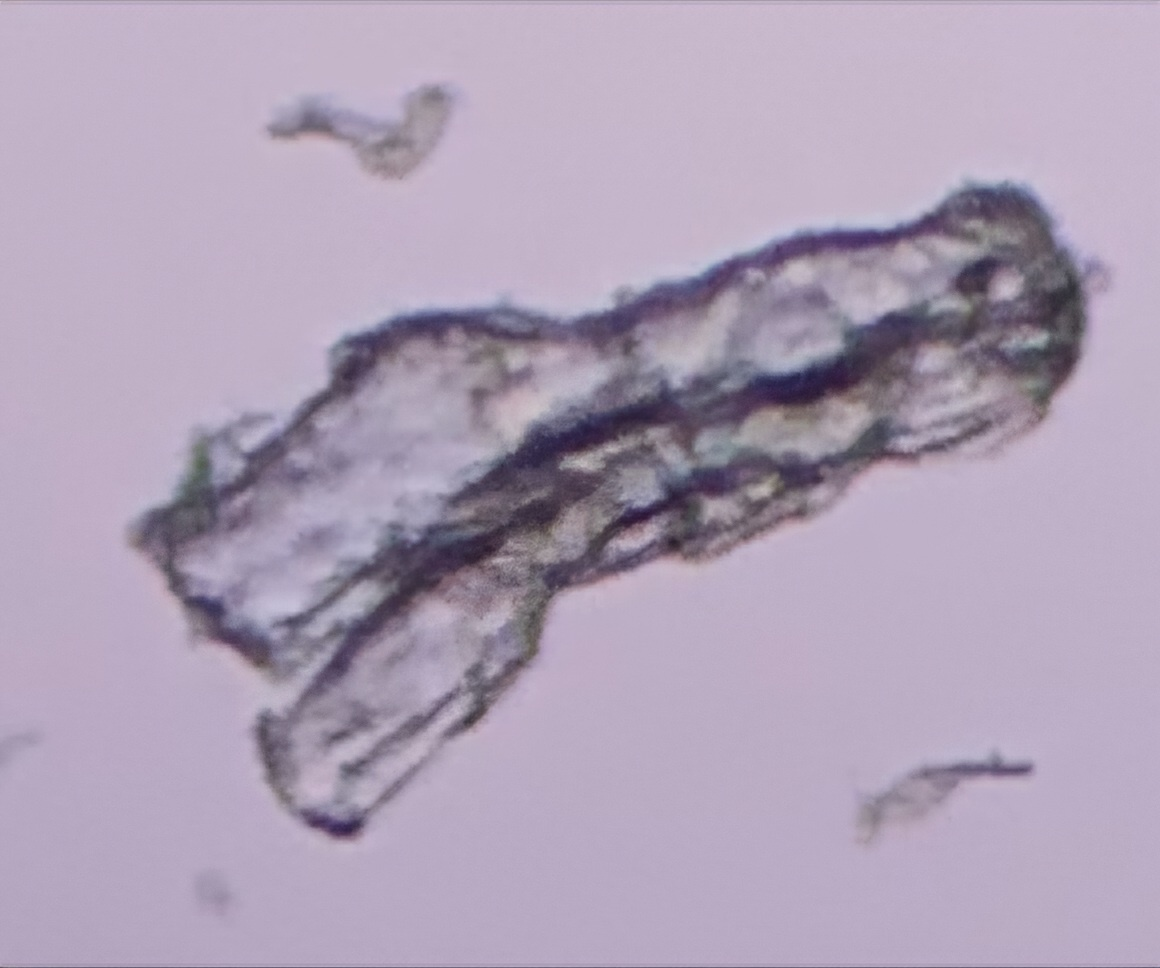microplastic: (113, 179, 1101, 850), (245, 79, 261, 85)
